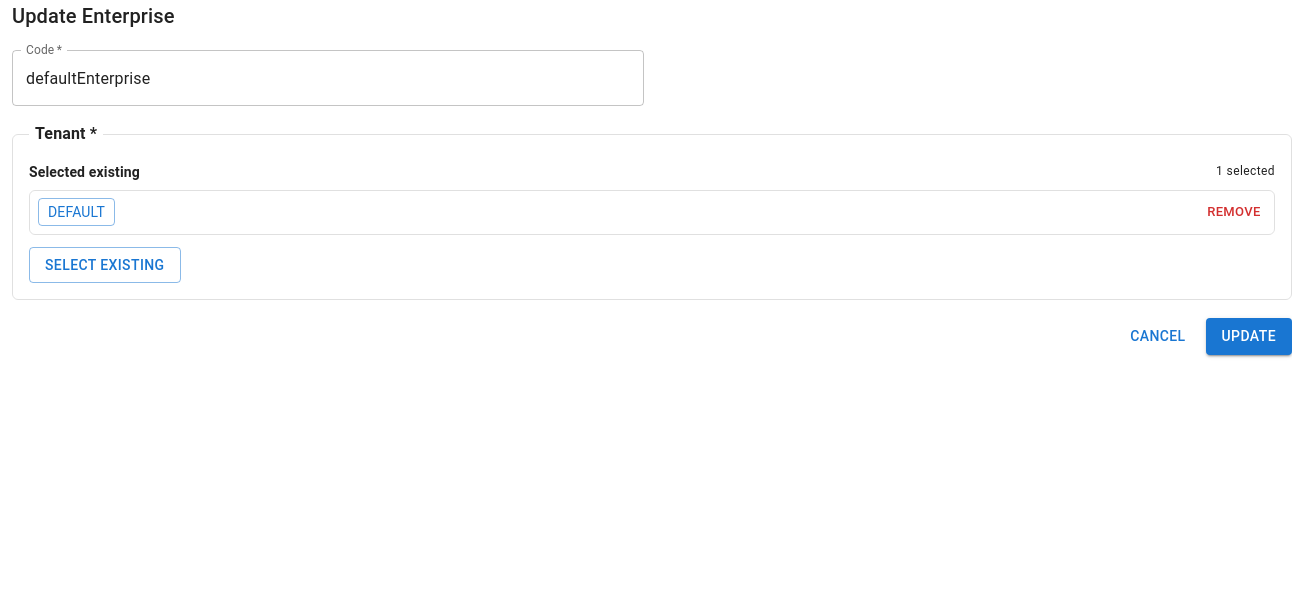
Test case: WorkbenchRecordForm › opens selected reference chips through the shared schema detail preview
This screenshot has width=1304, height=594.
Click the button "default" at (76, 212), box [38, 198, 115, 226]
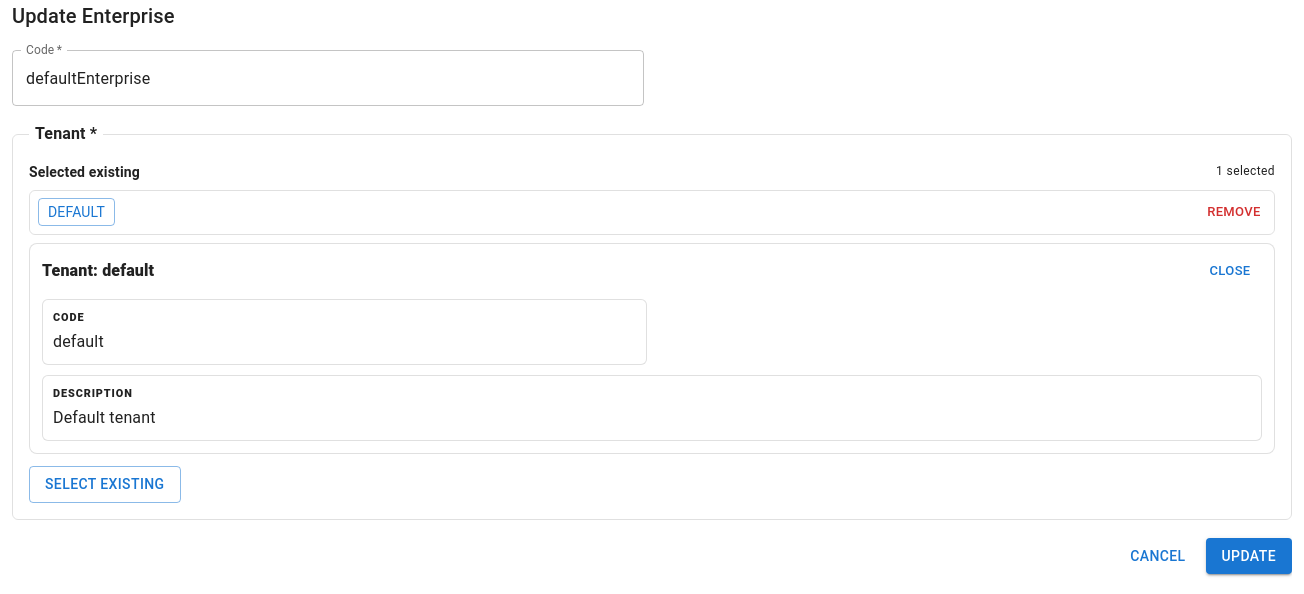
Result: the heading "Tenant: default" is shown at [42, 257, 154, 285]
Result: the text "Description" is shown at [53, 387, 133, 400]
Result: the text "Default tenant" is shown at [53, 408, 156, 427]
